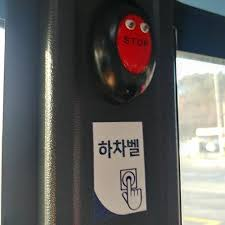bell: (88, 4, 164, 104)
